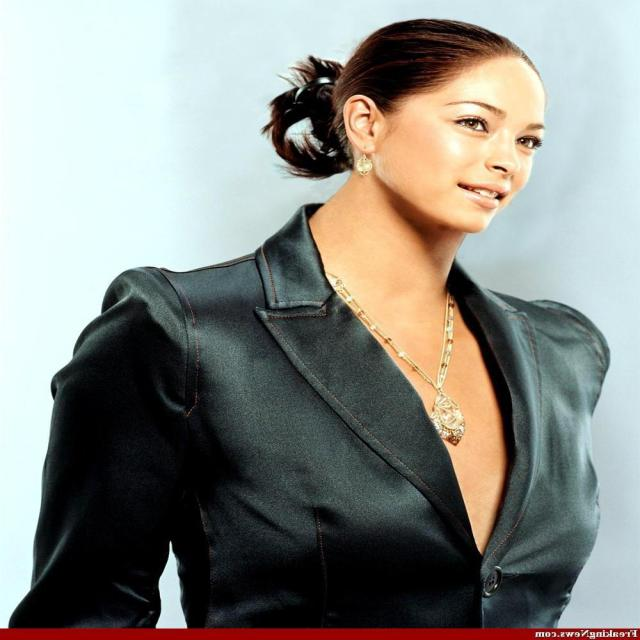no-earmuff: (328, 80, 399, 169)
